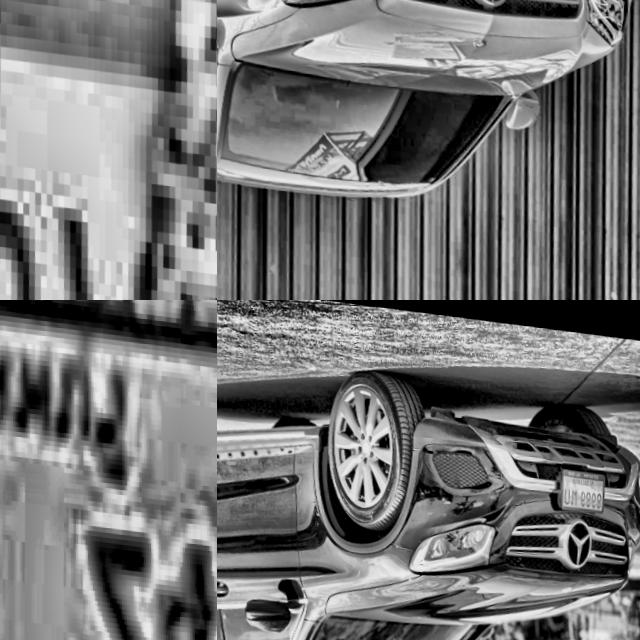license-plate: (0, 300, 217, 640), (0, 0, 217, 300), (553, 456, 608, 508)
